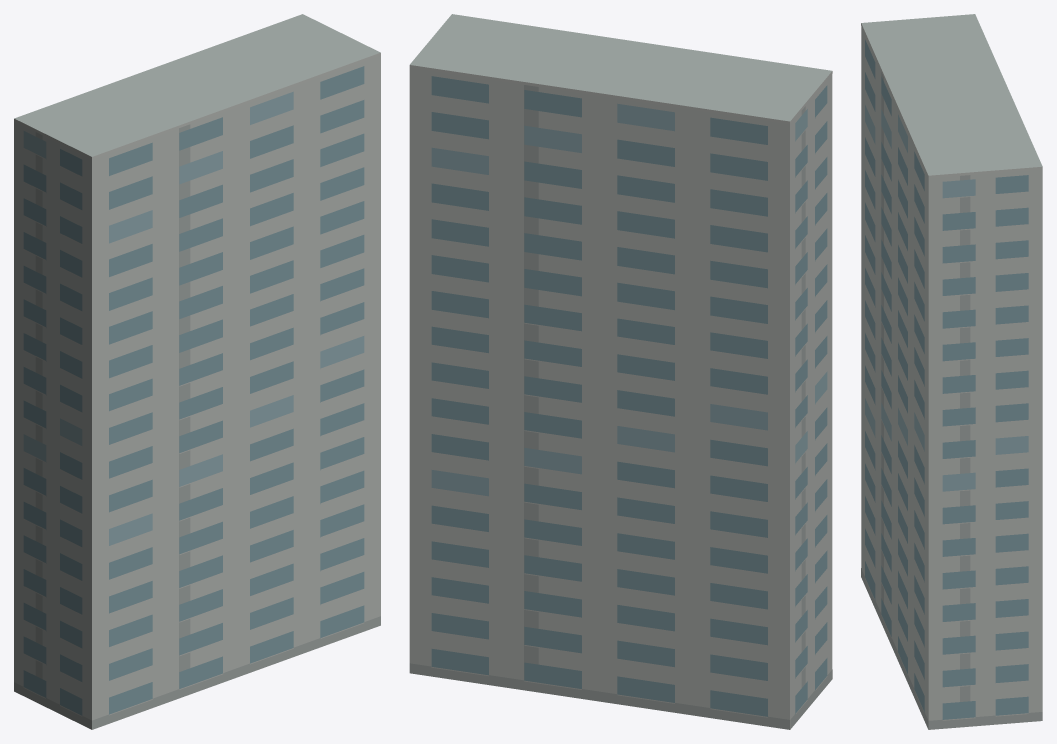
The model's file is residential-71025f2f-0b59-4752-b470-c4e4acb219b1.glb.
The picture shows the model from 3 angles, left to right: view 1: azimuth 30°, elevation 25°; view 2: azimuth 150°, elevation 25°; view 3: azimuth 270°, elevation 25°; orthographic projection. The views are drawn at different scales.
Parts seen in each view (by area): view 1: residential-71025f2f-0b59-4752-b470-c4e4acb219b1.tmp; view 2: residential-71025f2f-0b59-4752-b470-c4e4acb219b1.tmp; view 3: residential-71025f2f-0b59-4752-b470-c4e4acb219b1.tmp.
Part boxes in pixels (bbox=[...]): residential-71025f2f-0b59-4752-b470-c4e4acb219b1.tmp: bbox=[14, 14, 380, 729]; residential-71025f2f-0b59-4752-b470-c4e4acb219b1.tmp: bbox=[409, 14, 832, 729]; residential-71025f2f-0b59-4752-b470-c4e4acb219b1.tmp: bbox=[861, 14, 1042, 729].
Bounding box in the file's own units: 31.92 × 51 × 15.15.
